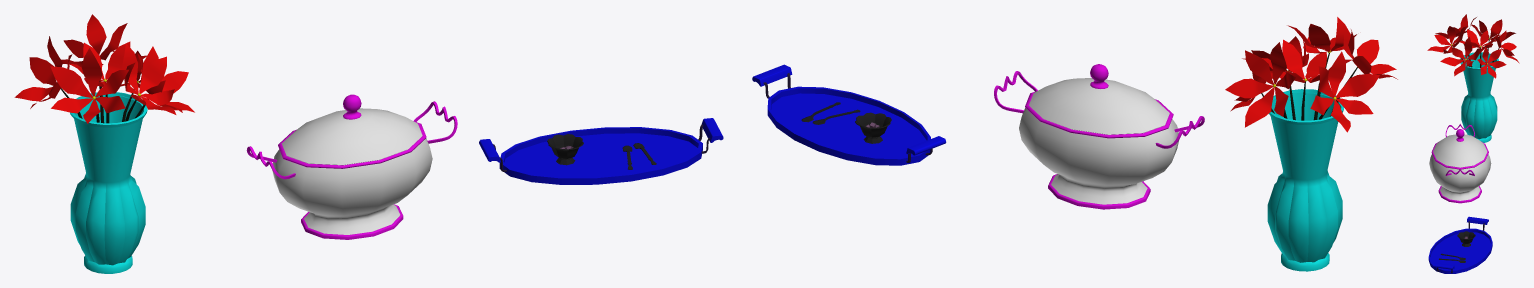
Rendered from SM_CupboardStuff_001.fbx.
3 renders of one model, left to right at view 1: azimuth 30°, elevation 25°; view 2: azimuth 150°, elevation 25°; view 3: azimuth 270°, elevation 25°, orthographic. The views are drawn at different scales.
Parts seen in each view (by area): view 1: SM_CupboardStuff_001; view 2: SM_CupboardStuff_001; view 3: SM_CupboardStuff_001.
Boxes of the visible parts, box(x1,y1,x2,y2) form: SM_CupboardStuff_001: box(14, 14, 723, 273); SM_CupboardStuff_001: box(752, 17, 1397, 271); SM_CupboardStuff_001: box(1427, 14, 1519, 273).
Size of the model in its own units: 156 by 52.95 by 38.19.
